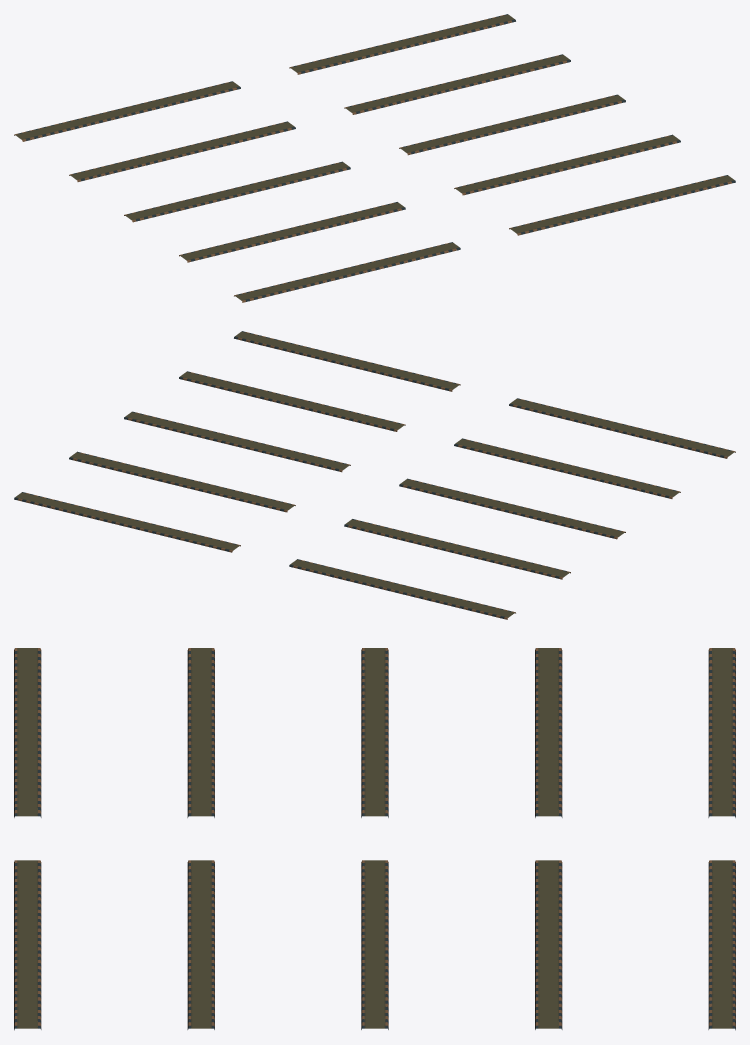
The model's file is SM_Trotoar_Hijau_02.fbx.
3 views of the same model, one above another, from view 1: azimuth 30°, elevation 25°; view 2: azimuth 150°, elevation 25°; view 3: azimuth 270°, elevation 25° (orthographic). The views are drawn at different scales.
Parts seen in each view (by area): view 1: Cube.005; view 2: Cube.005; view 3: Cube.005.
Part boxes in pixels (bbox=[...]): Cube.005: bbox=[14, 14, 735, 302]; Cube.005: bbox=[14, 331, 735, 619]; Cube.005: bbox=[14, 648, 735, 1030].
Bounding box in the file's own units: 5155 × 15 × 4133.
1 material, 1 textured.
